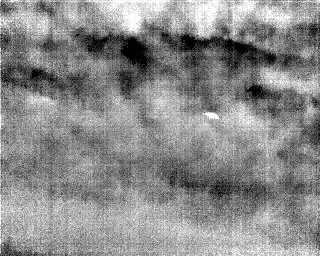BIRD: (203, 109, 222, 124)
